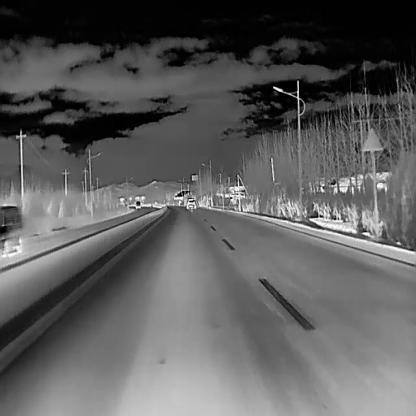car: (0, 203, 22, 256), (186, 198, 196, 210)
truck: (135, 200, 141, 209)
